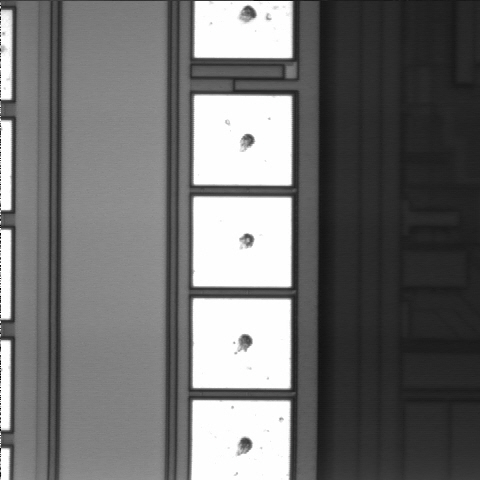pad: (194, 95, 292, 185), (193, 197, 291, 287), (193, 298, 291, 388)
